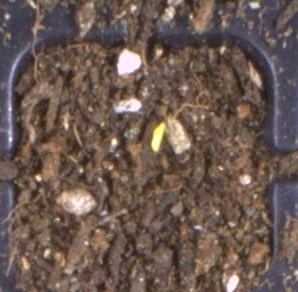chilli seed: (150, 121, 166, 153)
